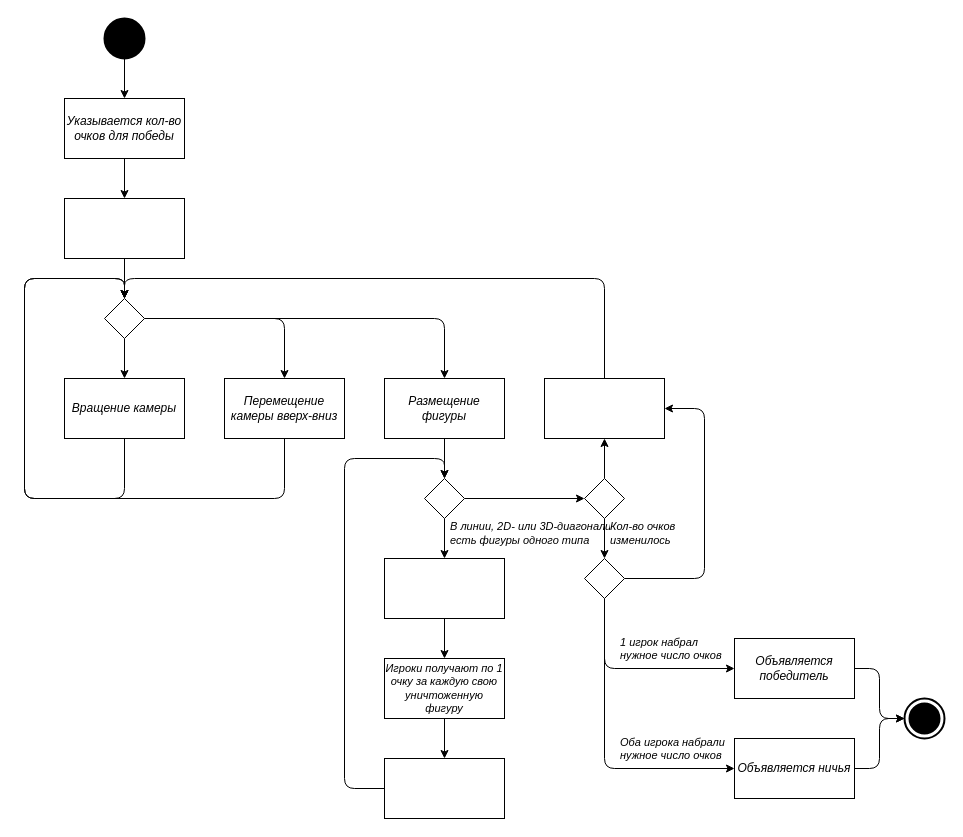
This 963x837 diagram has some shape labels left out. Each missing label, with the centre of its shape:
Все фигуры во всех линиях уничтожаются: point 444,588
Игрок начинает игру, "круг" ходит первым: point 124,228
Фигуры, расположенные над уничтоженными фигурами, падают вниз: point 444,788
Ход передается следующему игроку: point 604,408
